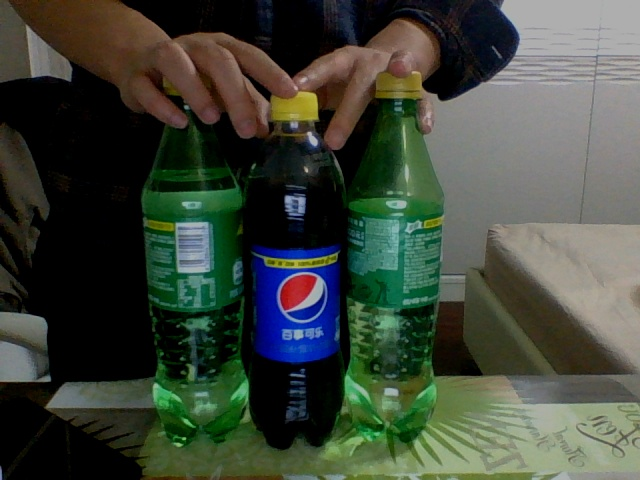Cola: (249, 90, 346, 454)
Sprite: (143, 71, 249, 446), (345, 69, 446, 444)
